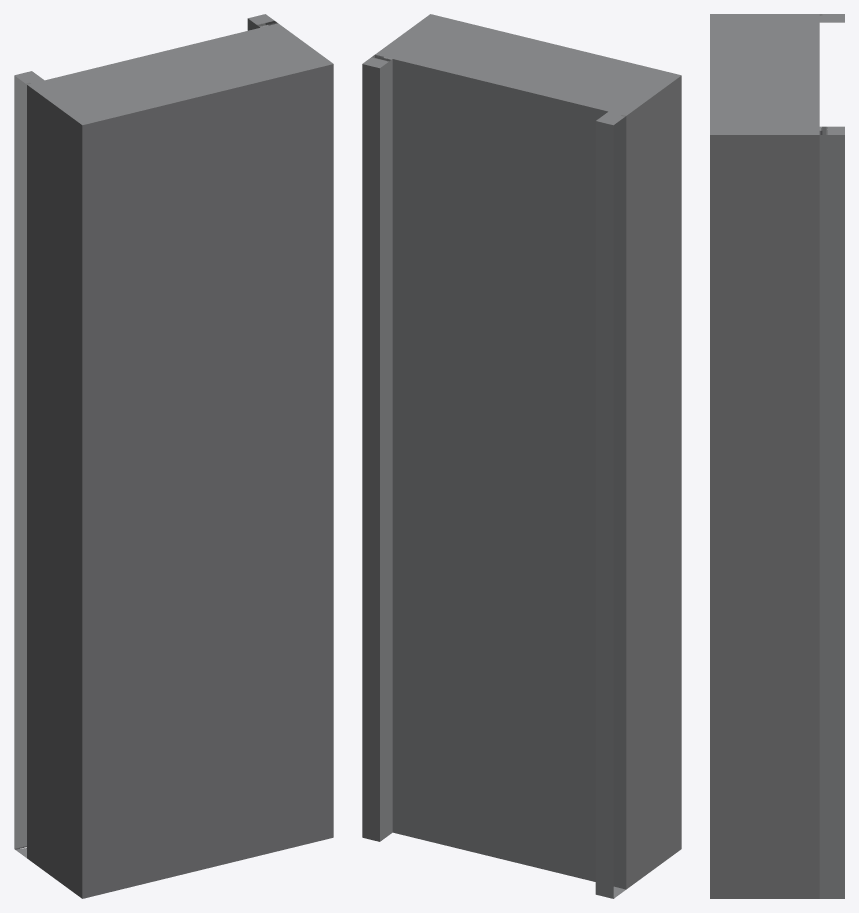
The picture shows the model from 3 angles, left to right: view 1: azimuth 30°, elevation 25°; view 2: azimuth 150°, elevation 25°; view 3: azimuth 270°, elevation 25°; orthographic projection.
Bounding box in the file's own units: 0.34 × 1 × 0.16.
